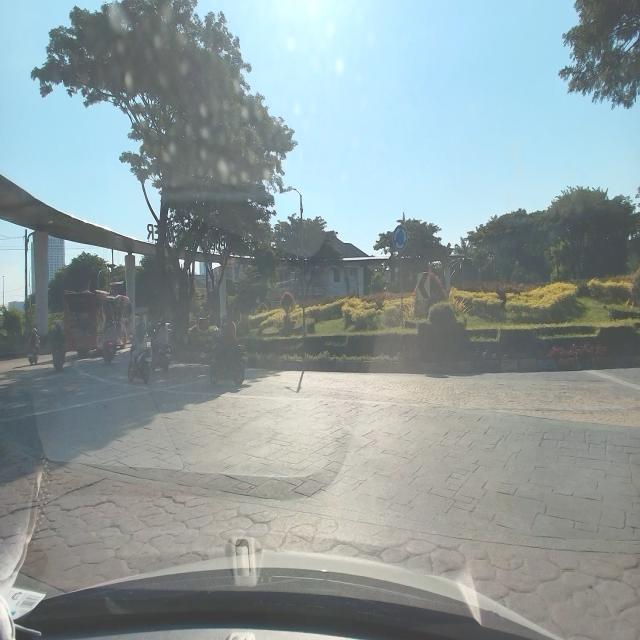bus: (59, 286, 132, 357)
